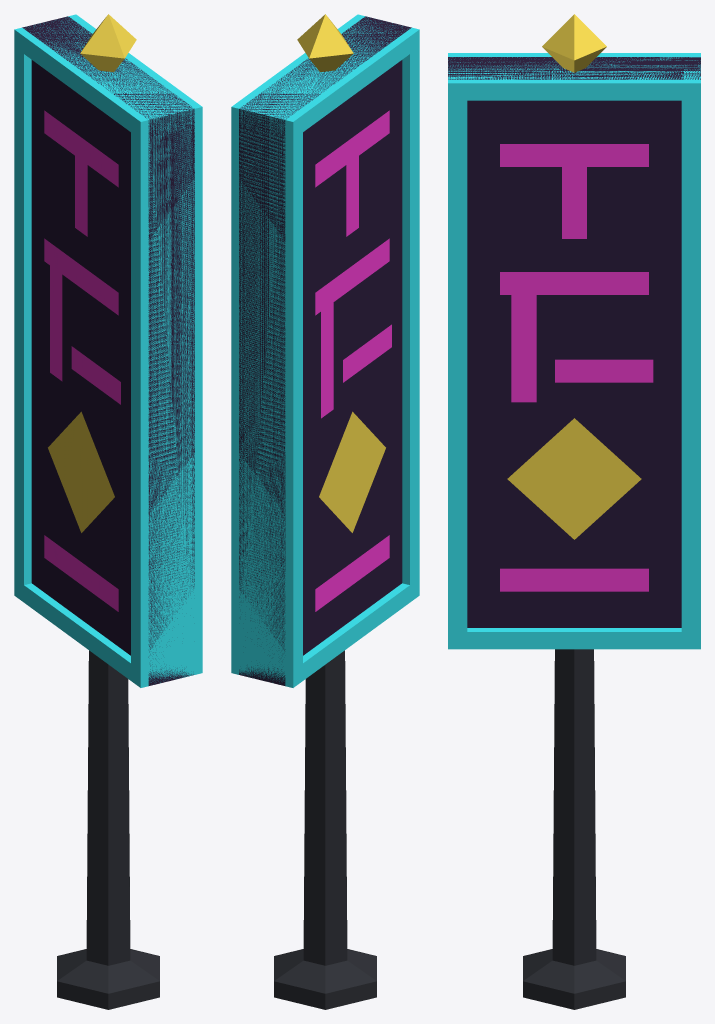
The model's file is neon_sign_a.glb.
3 views of the same model, side by side, from view 1: azimuth 30°, elevation 25°; view 2: azimuth 150°, elevation 25°; view 3: azimuth 270°, elevation 25° (orthographic).
Parts seen in each view (by area): view 1: neon_sign_a; view 2: neon_sign_a; view 3: neon_sign_a.
Part boxes in pixels (box(x1,y1,x2,y2)): neon_sign_a: box(14, 14, 202, 1009); neon_sign_a: box(231, 14, 419, 1009); neon_sign_a: box(448, 14, 700, 1009).
Bounding box in the file's own units: 0.08 × 0.7202 × 0.17.
